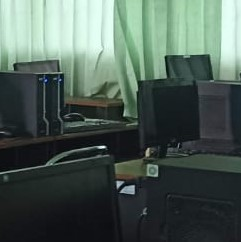monitor: (0, 153, 122, 240), (136, 77, 200, 152), (181, 80, 240, 156), (0, 71, 65, 137), (164, 54, 214, 80)
